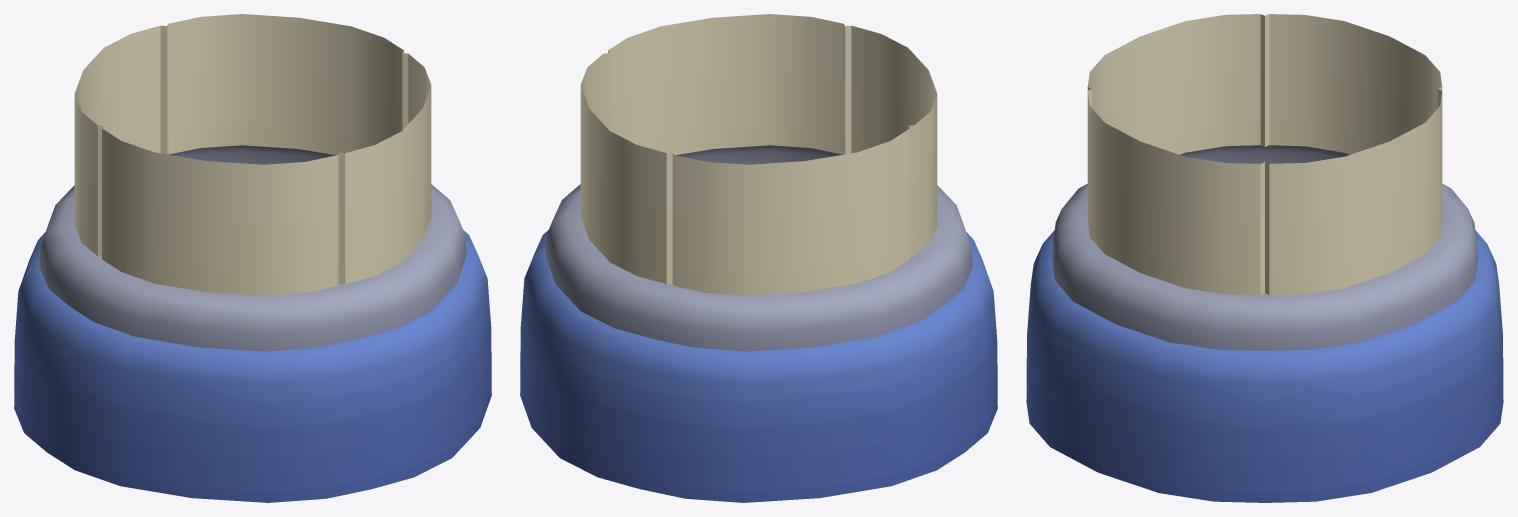
File: sm_futuristic_pillar_bottom.fbx
3 renders of one model, left to right at view 1: azimuth 30°, elevation 25°; view 2: azimuth 150°, elevation 25°; view 3: azimuth 270°, elevation 25°, orthographic.
Visible parts, largest first — view 1: sm_futuristic_pillar_bottom; view 2: sm_futuristic_pillar_bottom; view 3: sm_futuristic_pillar_bottom.
Part boxes in pixels (box(x1,y1,x2,y2)): sm_futuristic_pillar_bottom: box(14, 14, 491, 502); sm_futuristic_pillar_bottom: box(520, 14, 997, 502); sm_futuristic_pillar_bottom: box(1026, 14, 1503, 502).
Size of the model in its own units: 138 by 138 by 100.
